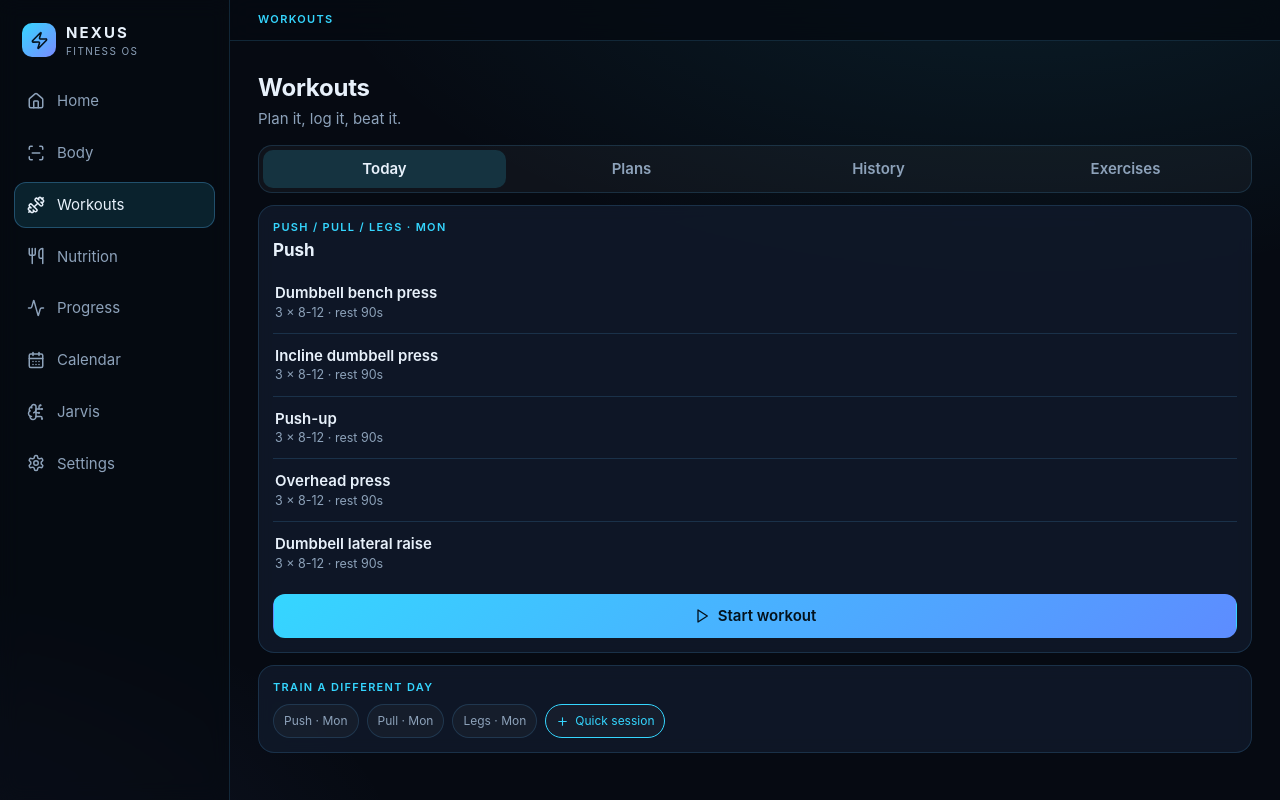
Scenario: app smoke › Workouts: start session, complete a set, finish and save history
Step 1. Click the button "Start workout" → click(755, 616), box top-left (273, 594), bottom-right (1237, 638)
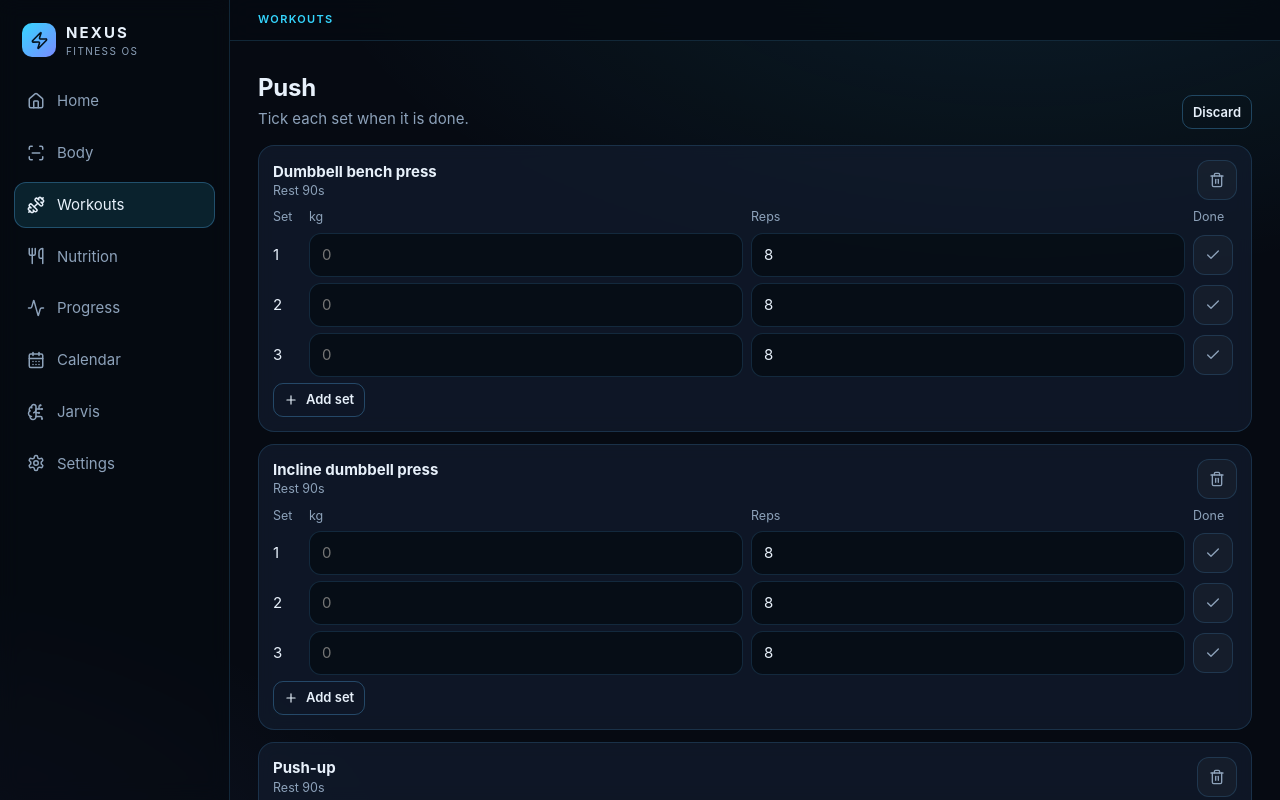
Step 2. Click the 1st button named "Mark set 1 done" → click(1213, 255), box top-left (1193, 235), bottom-right (1233, 275)
(page scrolled)
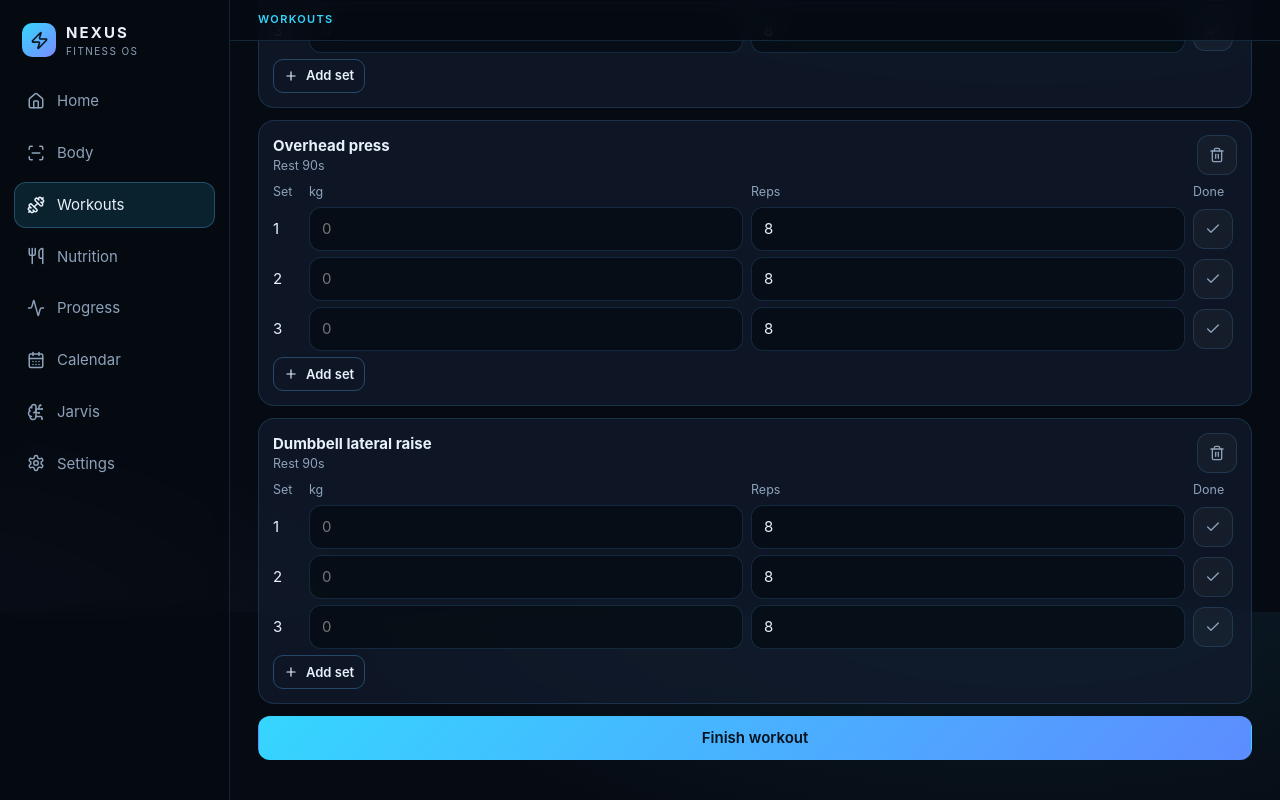
Step 3. Click the button "Finish workout" → click(755, 738), box top-left (258, 716), bottom-right (1252, 760)
(page scrolled)
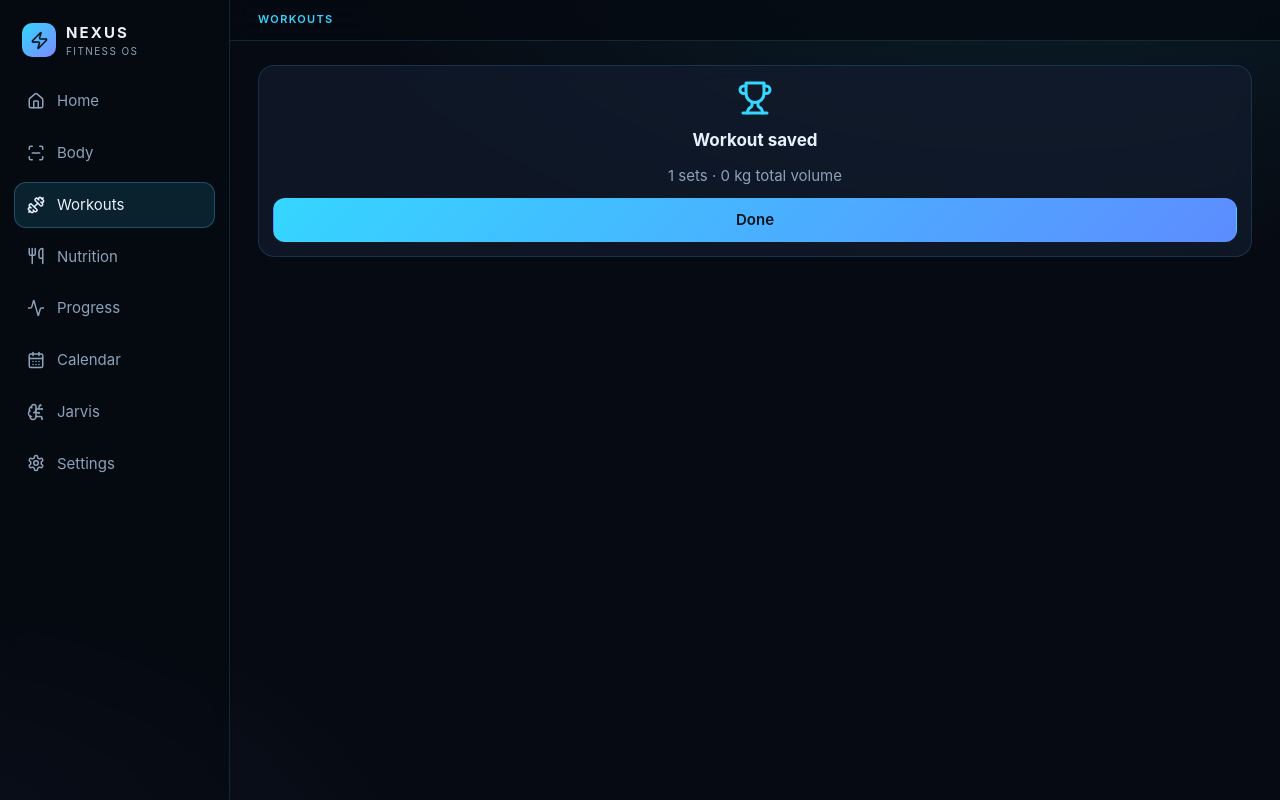
Expected: the heading "Workout saved" is shown, top-left (692, 130), bottom-right (818, 150)
